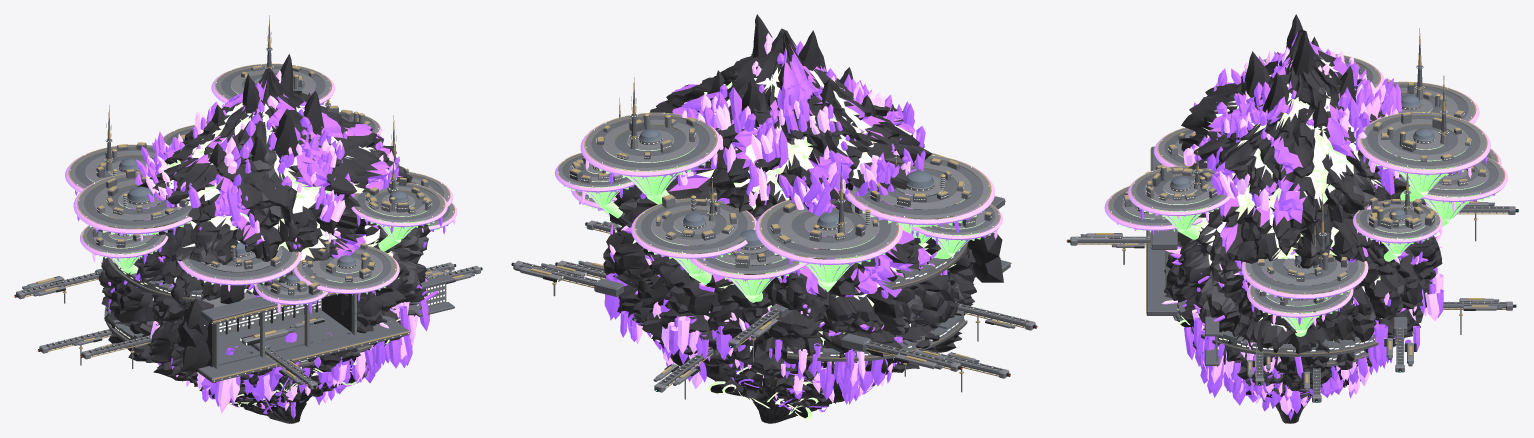
3 views of the same model, side by side, from view 1: azimuth 30°, elevation 25°; view 2: azimuth 150°, elevation 25°; view 3: azimuth 270°, elevation 25° (orthographic). The views are drawn at different scales.
Parts seen in each view (by area): view 1: DC_rock, DC_caps, DC_crystals, DC_hangar, DC_towns, DC_piers, DC_peaks, DC_galleries, DC_alveoles; view 2: DC_rock, DC_caps, DC_crystals, DC_towns, DC_piers, DC_galleries, DC_peaks, DC_alveoles, DC_hangar; view 3: DC_rock, DC_caps, DC_crystals, DC_towns, DC_piers, DC_hangar, DC_peaks, DC_galleries.
Part boxes in pixels (<box>): DC_rock: <box>99,68,430,423</box>; DC_caps: <box>65,63,457,314</box>; DC_crystals: <box>101,70,438,418</box>; DC_hangar: <box>177,274,454,382</box>; DC_towns: <box>69,14,453,299</box>; DC_piers: <box>14,262,482,390</box>; DC_peaks: <box>188,54,342,167</box>; DC_galleries: <box>104,257,421,367</box>; DC_alveoles: <box>190,318,400,413</box>; DC_rock: <box>603,28,976,423</box>; DC_caps: <box>555,112,1002,302</box>; DC_crystals: <box>604,33,956,404</box>; DC_towns: <box>558,53,999,273</box>; DC_piers: <box>511,220,1037,399</box>; DC_galleries: <box>622,242,968,361</box>; DC_peaks: <box>710,14,876,135</box>; DC_alveoles: <box>628,313,885,420</box>; DC_hangar: <box>967,196,1015,282</box>; DC_rock: <box>1164,30,1442,423</box>; DC_caps: <box>1104,54,1507,336</box>; DC_crystals: <box>1161,32,1443,420</box>; DC_towns: <box>1111,27,1501,312</box>; DC_piers: <box>1066,201,1519,402</box>; DC_hangar: <box>1146,146,1219,365</box>; DC_peaks: <box>1244,14,1356,138</box>; DC_galleries: <box>1173,301,1378,366</box>.
Bounding box in the file's own units: 2154 × 1819 × 1904.
